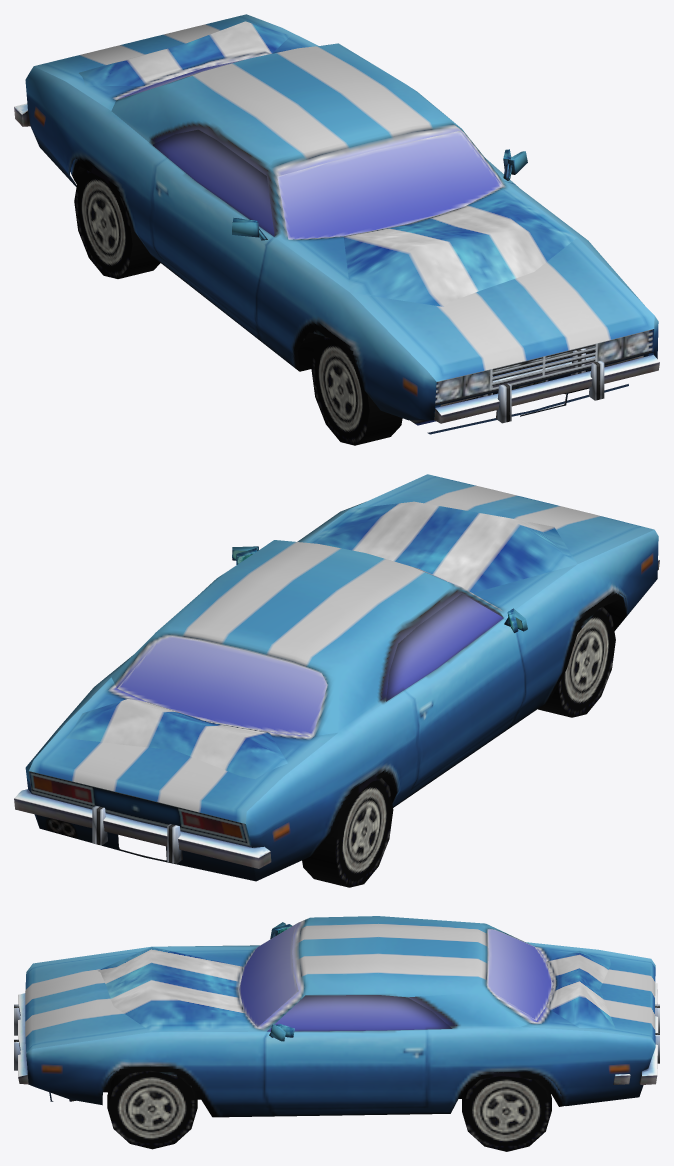
File: car.DAE
3 views of the same model, one above another, from view 1: azimuth 30°, elevation 25°; view 2: azimuth 150°, elevation 25°; view 3: azimuth 270°, elevation 25° (orthographic). The views are drawn at different scales.
Parts seen in each view (by area): view 1: car_05_clean, car_05_damaged, car_05_clean_glass, cleanwheel_F_R, cleanwheel_B_R; view 2: car_05_clean, car_05_damaged, car_05_clean_glass, cleanwheel_B_R, cleanwheel_F_R; view 3: car_05_clean, car_05_damaged, car_05_clean_glass, cleanwheel_F_L, cleanwheel_B_L.
Boxes of the visible parts, <box> form: car_05_clean: <box>14,14,659,434</box>; car_05_damaged: <box>70,21,643,425</box>; car_05_clean_glass: <box>118,60,501,239</box>; cleanwheel_F_R: <box>311,336,402,445</box>; cleanwheel_B_R: <box>74,170,160,278</box>; car_05_clean: <box>14,474,659,881</box>; car_05_damaged: <box>65,501,626,854</box>; car_05_clean_glass: <box>117,594,503,736</box>; cleanwheel_B_R: <box>302,778,393,887</box>; cleanwheel_F_R: <box>538,607,615,717</box>; car_05_clean: <box>14,916,659,1117</box>; car_05_damaged: <box>69,924,630,1117</box>; car_05_clean_glass: <box>239,923,552,1031</box>; cleanwheel_F_L: <box>107,1070,197,1149</box>; cleanwheel_B_L: <box>462,1076,551,1151</box>.
Size of the model in its own units: 0.8603 by 0.5737 by 2.11.
